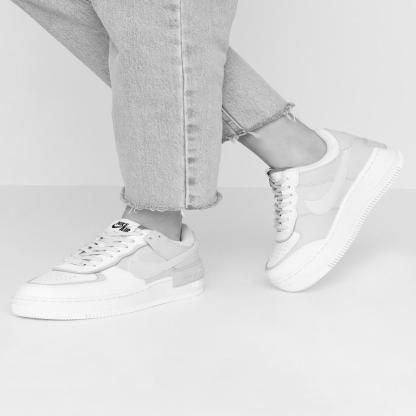ankle: (328, 154, 332, 158), (176, 242, 181, 245)
heel: (369, 145, 375, 149), (196, 261, 200, 264)
left_foot: (12, 222, 205, 321)
pinky: (95, 291, 100, 294), (269, 265, 272, 267)
right_foot: (266, 131, 406, 294)
toe: (27, 284, 33, 288), (292, 270, 296, 273)
